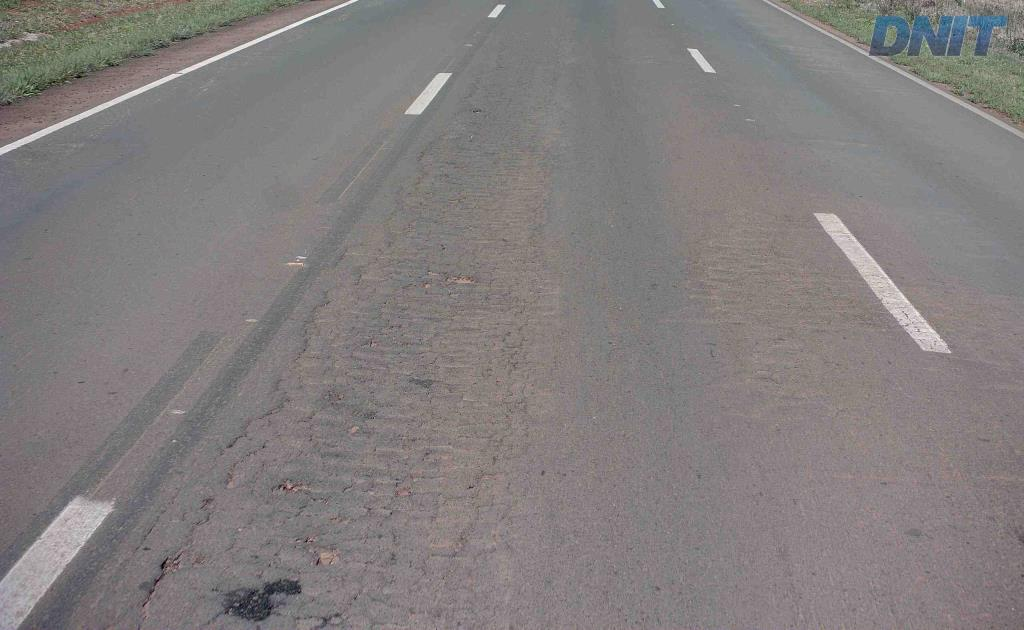crack: (211, 578, 302, 622), (139, 550, 183, 607)
pothole: (141, 543, 191, 606), (293, 535, 345, 574), (270, 474, 319, 490), (443, 269, 479, 288)
